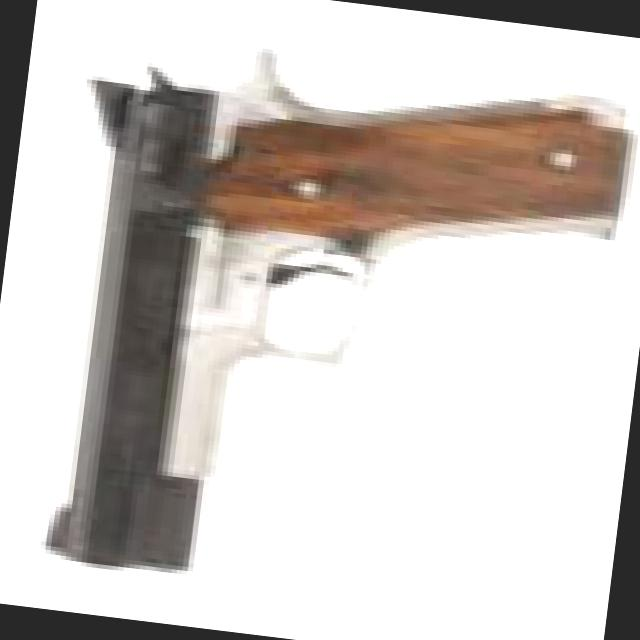handgun: (20, 21, 639, 635)
